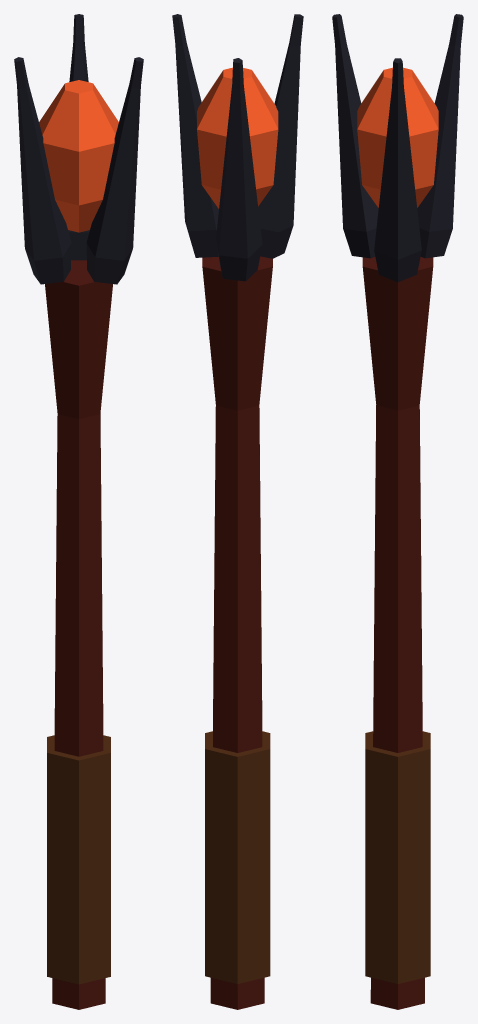
Rendered from wpn_wand_9.glb.
3 renders of one model, left to right at view 1: azimuth 90°, elevation 25°; view 2: azimuth 150°, elevation 25°; view 3: azimuth 270°, elevation 25°, orthographic.
Parts seen in each view (by area): view 1: wpn_wand_9; view 2: wpn_wand_9; view 3: wpn_wand_9.
Boxes of the visible parts, box(x1,y1,x2,y2) form: wpn_wand_9: box(14, 14, 143, 1009); wpn_wand_9: box(172, 14, 303, 1009); wpn_wand_9: box(332, 14, 463, 1009).
Size of the model in its own units: 0.0782 by 0.6805 by 0.084.
